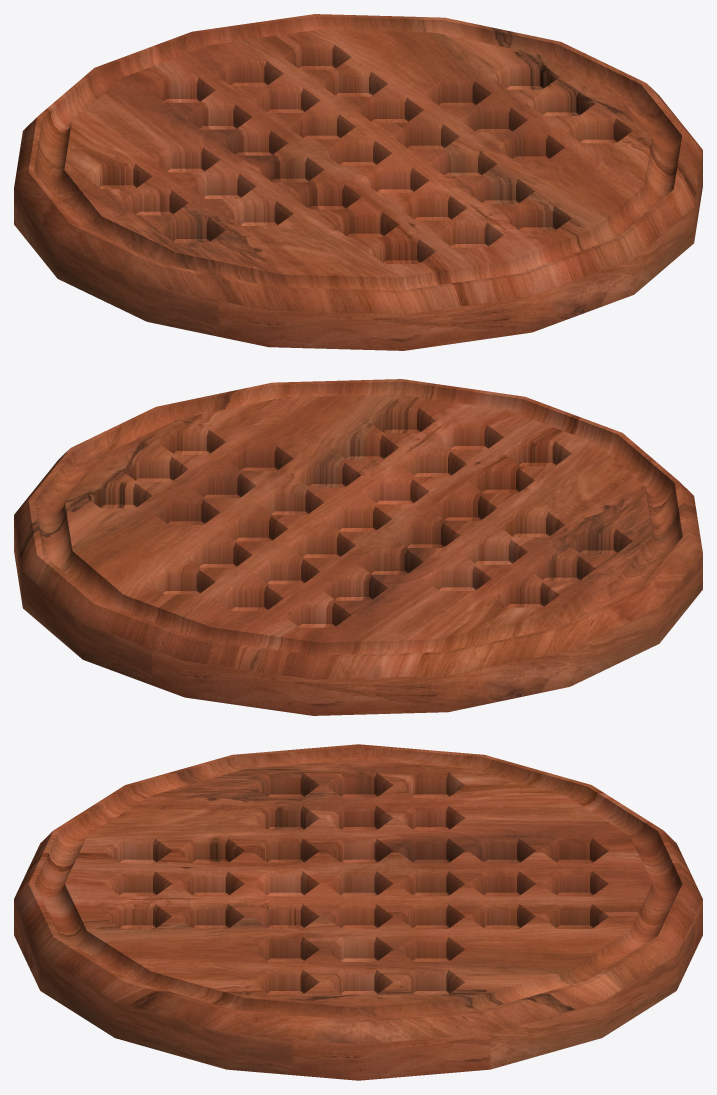
The model's file is solitaire_board.DAE.
3 renders of one model, top to bottom at view 1: azimuth 30°, elevation 25°; view 2: azimuth 150°, elevation 25°; view 3: azimuth 270°, elevation 25°, orthographic.
Parts seen in each view (by area): view 1: solitaireBoard; view 2: solitaireBoard; view 3: solitaireBoard.
Part boxes in pixels (x1,y1,x2,y2): solitaireBoard: [14, 14, 702, 350]; solitaireBoard: [14, 379, 702, 715]; solitaireBoard: [14, 744, 702, 1080].
Bounding box in the file's own units: 0.5069 × 0.5069 × 0.0417.
Materials: 1 (1 with a texture image).
